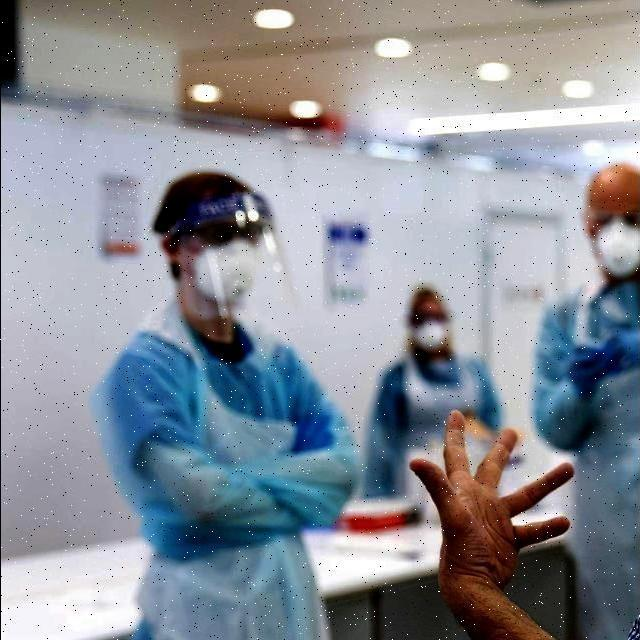no_apron: (392, 404, 572, 612)
